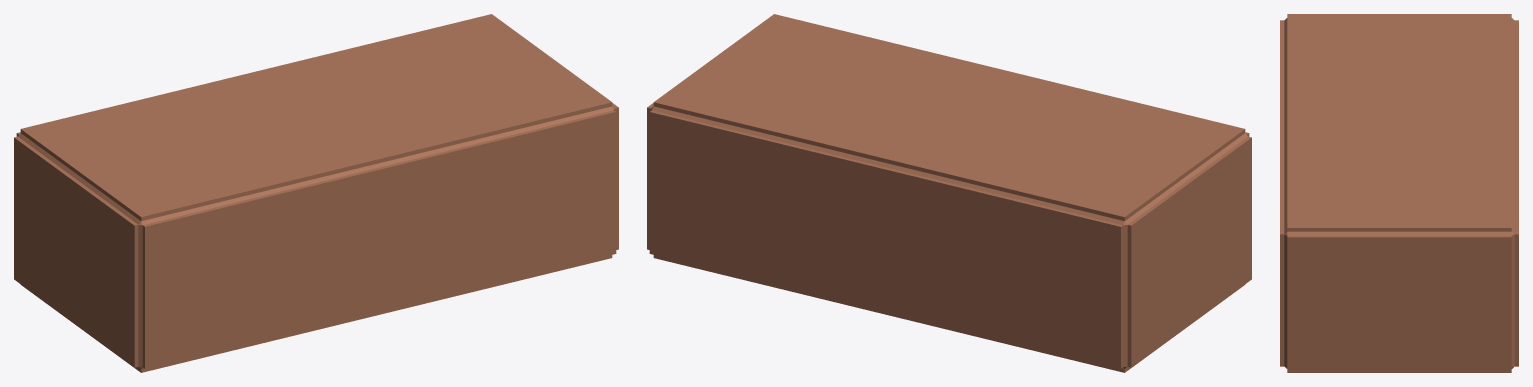
Rendered from bond-brick.glb.
The picture shows the model from 3 angles, left to right: view 1: azimuth 30°, elevation 25°; view 2: azimuth 150°, elevation 25°; view 3: azimuth 270°, elevation 25°; orthographic projection. The views are drawn at different scales.
Visible parts, largest first — view 1: Frame; view 2: Frame; view 3: Frame.
Boxes of the visible parts, x1,y1,x2,y2 form: Frame: [14, 14, 618, 372]; Frame: [647, 14, 1251, 372]; Frame: [1280, 14, 1518, 372].
Size of the model in its own units: 0.205 by 0.063 by 0.094.
